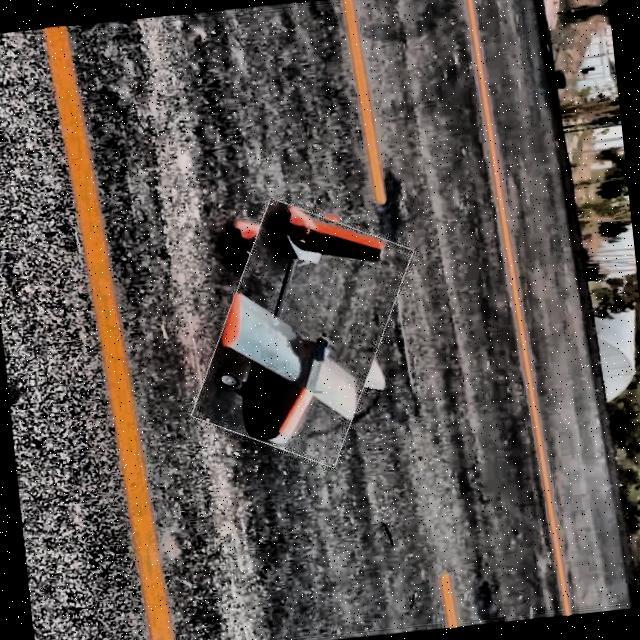iha: (179, 182, 418, 520)
